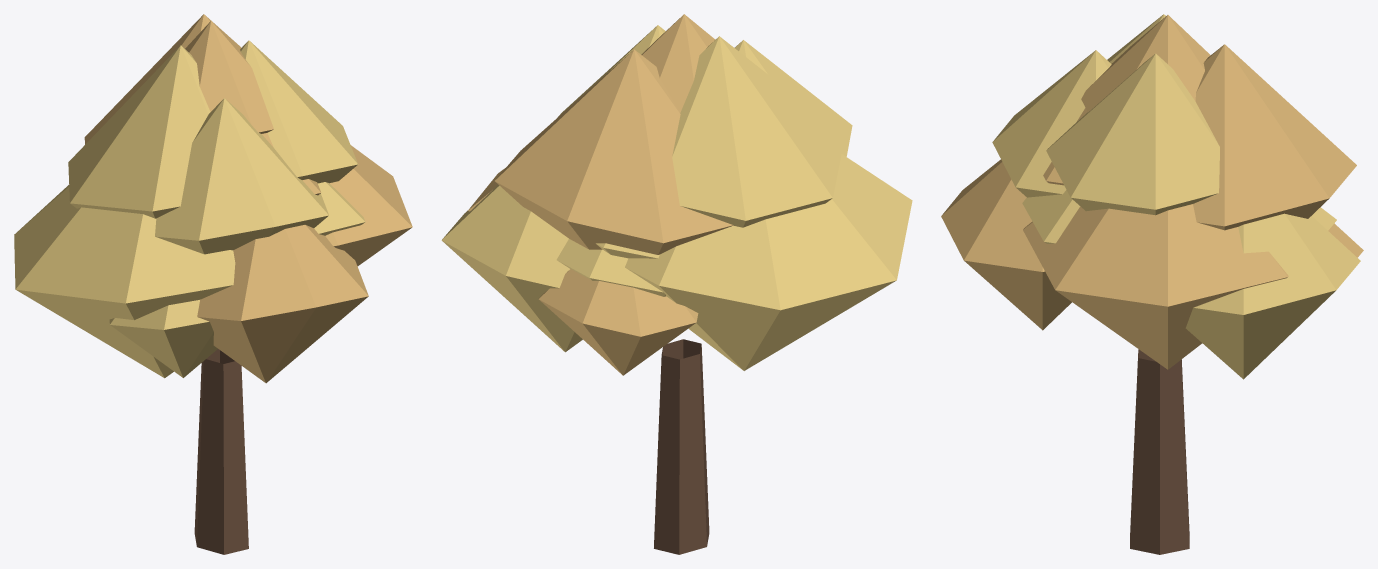
Rendered from tree_reference_oak_slim_01_hlod.fbx.
The picture shows the model from 3 angles, left to right: view 1: azimuth 30°, elevation 25°; view 2: azimuth 150°, elevation 25°; view 3: azimuth 270°, elevation 25°; orthographic projection. The views are drawn at different scales.
Visible parts, largest first — view 1: tree_reference_oak_slim_01_hlod_canopy_03, tree_reference_oak_slim_01_hlod_canopy_08, tree_reference_oak_slim_01_hlod_canopy_05, tree_reference_oak_slim_01_hlod_canopy_14, tree_reference_oak_slim_01_hlod_trunk_00, tree_reference_oak_slim_01_hlod_canopy_11, tree_reference_oak_slim_01_hlod_canopy_01, tree_reference_oak_slim_01_hlod_canopy_10, tree_reference_oak_slim_01_hlod_canopy_09, tree_reference_oak_slim_01_hlod_canopy_00, tree_reference_oak_slim_01_hlod_canopy_04; view 2: tree_reference_oak_slim_01_hlod_canopy_03, tree_reference_oak_slim_01_hlod_canopy_04, tree_reference_oak_slim_01_hlod_canopy_14, tree_reference_oak_slim_01_hlod_canopy_07, tree_reference_oak_slim_01_hlod_trunk_00, tree_reference_oak_slim_01_hlod_canopy_06, tree_reference_oak_slim_01_hlod_canopy_10, tree_reference_oak_slim_01_hlod_canopy_02, tree_reference_oak_slim_01_hlod_canopy_05, tree_reference_oak_slim_01_hlod_canopy_11; view 3: tree_reference_oak_slim_01_hlod_canopy_01, tree_reference_oak_slim_01_hlod_canopy_11, tree_reference_oak_slim_01_hlod_canopy_04, tree_reference_oak_slim_01_hlod_canopy_07, tree_reference_oak_slim_01_hlod_trunk_00, tree_reference_oak_slim_01_hlod_canopy_08, tree_reference_oak_slim_01_hlod_canopy_05, tree_reference_oak_slim_01_hlod_canopy_10, tree_reference_oak_slim_01_hlod_canopy_00.
Boxes of the visible parts, box(x1,y1,x2,y2) form: tree_reference_oak_slim_01_hlod_canopy_03: box(14, 185, 235, 378); tree_reference_oak_slim_01_hlod_canopy_08: box(197, 225, 368, 383); tree_reference_oak_slim_01_hlod_canopy_05: box(155, 98, 328, 254); tree_reference_oak_slim_01_hlod_canopy_14: box(68, 45, 210, 218); tree_reference_oak_slim_01_hlod_trunk_00: box(194, 349, 248, 554); tree_reference_oak_slim_01_hlod_canopy_11: box(240, 40, 358, 183); tree_reference_oak_slim_01_hlod_canopy_01: box(325, 145, 412, 266); tree_reference_oak_slim_01_hlod_canopy_10: box(185, 21, 273, 133); tree_reference_oak_slim_01_hlod_canopy_09: box(109, 300, 217, 377); tree_reference_oak_slim_01_hlod_canopy_00: box(314, 182, 365, 235); tree_reference_oak_slim_01_hlod_canopy_04: box(84, 14, 241, 144); tree_reference_oak_slim_01_hlod_canopy_03: box(625, 154, 912, 370); tree_reference_oak_slim_01_hlod_canopy_04: box(495, 49, 733, 254); tree_reference_oak_slim_01_hlod_canopy_14: box(672, 36, 845, 227); tree_reference_oak_slim_01_hlod_canopy_07: box(441, 184, 582, 352); tree_reference_oak_slim_01_hlod_trunk_00: box(654, 339, 709, 554); tree_reference_oak_slim_01_hlod_canopy_06: box(539, 269, 698, 375); tree_reference_oak_slim_01_hlod_canopy_10: box(641, 14, 715, 112); tree_reference_oak_slim_01_hlod_canopy_02: box(556, 239, 665, 296); tree_reference_oak_slim_01_hlod_canopy_05: box(734, 40, 852, 156); tree_reference_oak_slim_01_hlod_canopy_11: box(558, 25, 665, 116); tree_reference_oak_slim_01_hlod_canopy_01: box(1023, 204, 1288, 369); tree_reference_oak_slim_01_hlod_canopy_11: box(1046, 53, 1219, 215); tree_reference_oak_slim_01_hlod_canopy_04: box(1193, 44, 1356, 230); tree_reference_oak_slim_01_hlod_canopy_07: box(1185, 213, 1360, 379); tree_reference_oak_slim_01_hlod_trunk_00: box(1130, 349, 1189, 554); tree_reference_oak_slim_01_hlod_canopy_08: box(941, 159, 1071, 330); tree_reference_oak_slim_01_hlod_canopy_05: box(992, 50, 1111, 197); tree_reference_oak_slim_01_hlod_canopy_10: box(1081, 15, 1210, 112); tree_reference_oak_slim_01_hlod_canopy_00: box(1022, 190, 1080, 243).
Size of the model in its own units: 442 by 571 by 417.
